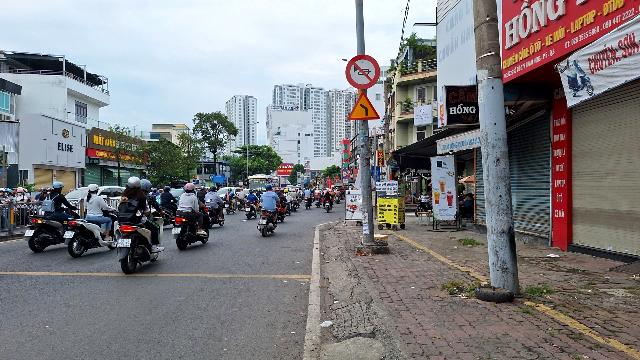cam-bop-coi: (345, 53, 380, 91)
cho-ngoat-nguy-hiem-ben-trai: (348, 91, 380, 120)
